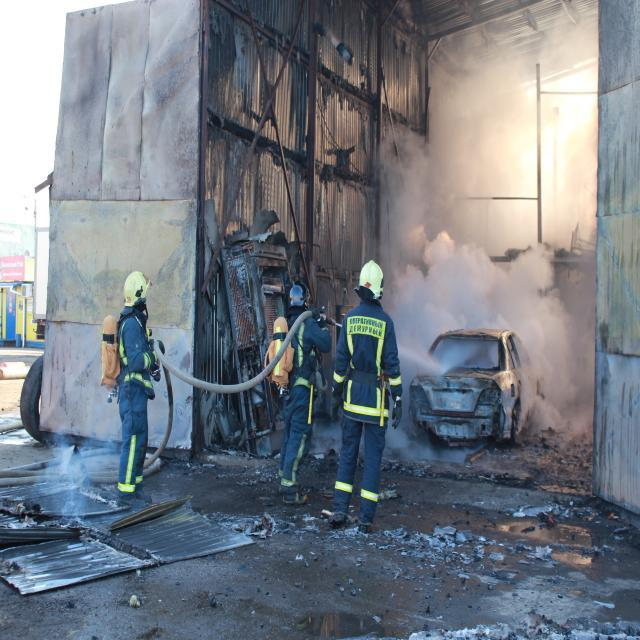Smoke: (372, 124, 592, 452), (38, 429, 104, 518)
